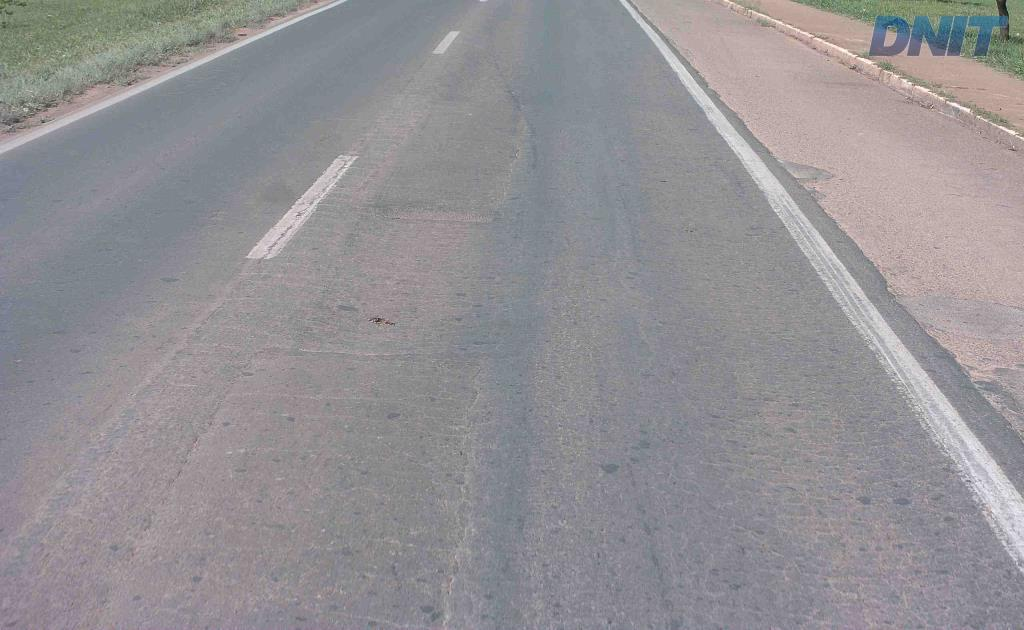pothole: (362, 310, 399, 334)
